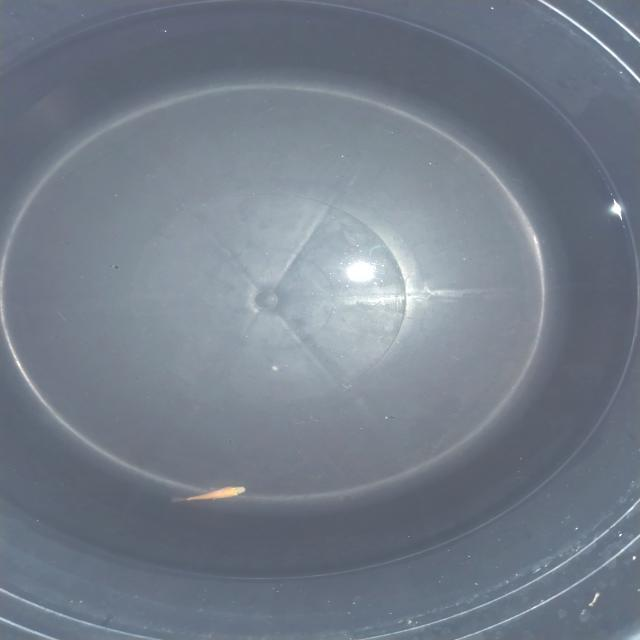nila: (169, 483, 250, 507)
